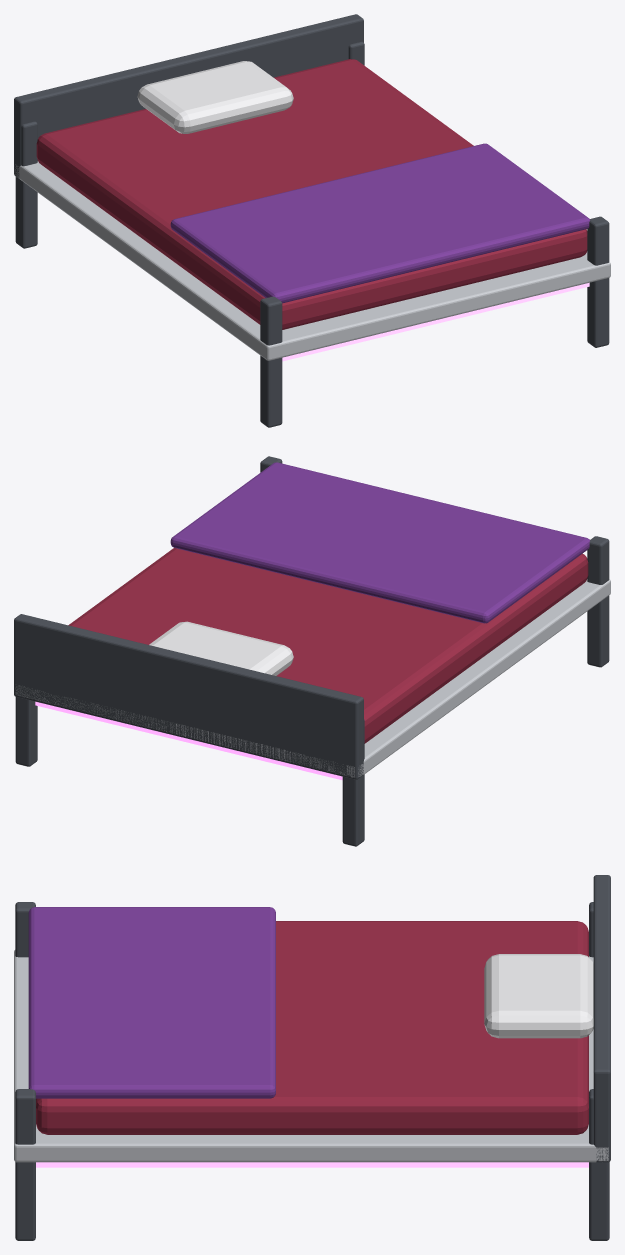
File: bed_bunk_cot.glb
3 renders of one model, top to bottom at view 1: azimuth 30°, elevation 25°; view 2: azimuth 150°, elevation 25°; view 3: azimuth 270°, elevation 25°, orthographic. The views are drawn at different scales.
Visible parts, largest first — view 1: GD_bed_bunk_cot__m3, GD_bed_bunk_cot__m5, GD_bed_bunk_cot__m0, GD_bed_bunk_cot__m2, GD_bed_bunk_cot__m4, GD_bed_bunk_cot__m1; view 2: GD_bed_bunk_cot__m5, GD_bed_bunk_cot__m3, GD_bed_bunk_cot__m0, GD_bed_bunk_cot__m2, GD_bed_bunk_cot__m4, GD_bed_bunk_cot__m1; view 3: GD_bed_bunk_cot__m3, GD_bed_bunk_cot__m5, GD_bed_bunk_cot__m2, GD_bed_bunk_cot__m0, GD_bed_bunk_cot__m4, GD_bed_bunk_cot__m1.
Boxes of the visible parts, <box> form: GD_bed_bunk_cot__m3: <box>36,59,587,329</box>; GD_bed_bunk_cot__m5: <box>170,143,589,303</box>; GD_bed_bunk_cot__m0: <box>14,14,609,427</box>; GD_bed_bunk_cot__m2: <box>14,161,610,360</box>; GD_bed_bunk_cot__m4: <box>137,61,293,133</box>; GD_bed_bunk_cot__m1: <box>282,282,589,361</box>; GD_bed_bunk_cot__m5: <box>170,462,589,623</box>; GD_bed_bunk_cot__m3: <box>68,548,588,743</box>; GD_bed_bunk_cot__m0: <box>14,456,609,846</box>; GD_bed_bunk_cot__m2: <box>15,579,610,777</box>; GD_bed_bunk_cot__m4: <box>149,621,293,675</box>; GD_bed_bunk_cot__m1: <box>35,701,342,780</box>; GD_bed_bunk_cot__m3: <box>36,921,588,1134</box>; GD_bed_bunk_cot__m5: <box>28,907,275,1098</box>; GD_bed_bunk_cot__m2: <box>14,950,608,1162</box>; GD_bed_bunk_cot__m0: <box>15,875,610,1240</box>; GD_bed_bunk_cot__m4: <box>484,954,593,1038</box>; GD_bed_bunk_cot__m1: <box>36,1162,588,1167</box>.
Size of the model in its own units: 1.6 by 0.65 by 2.05.
